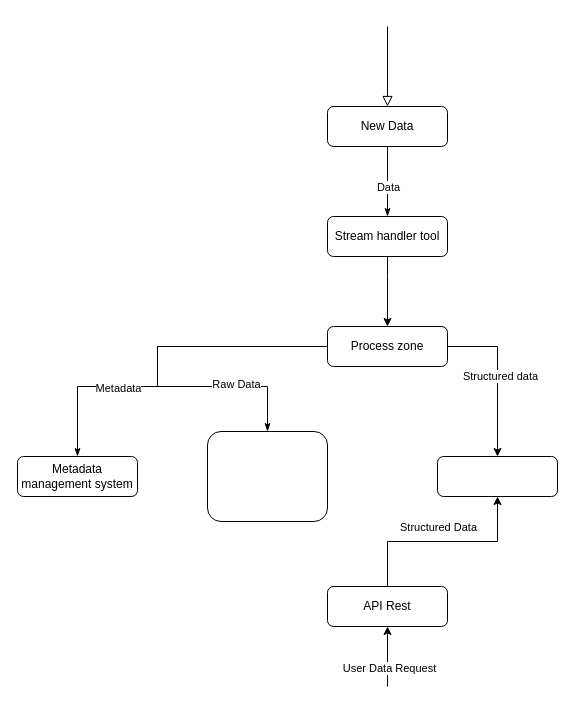
Image size: 575x712. Some labels were removed from this diagram. Here are the shapes that lost their labels. From the top down, the centre of each, then its label:
point 267,476: Raw data zone
point 497,476: Any database
